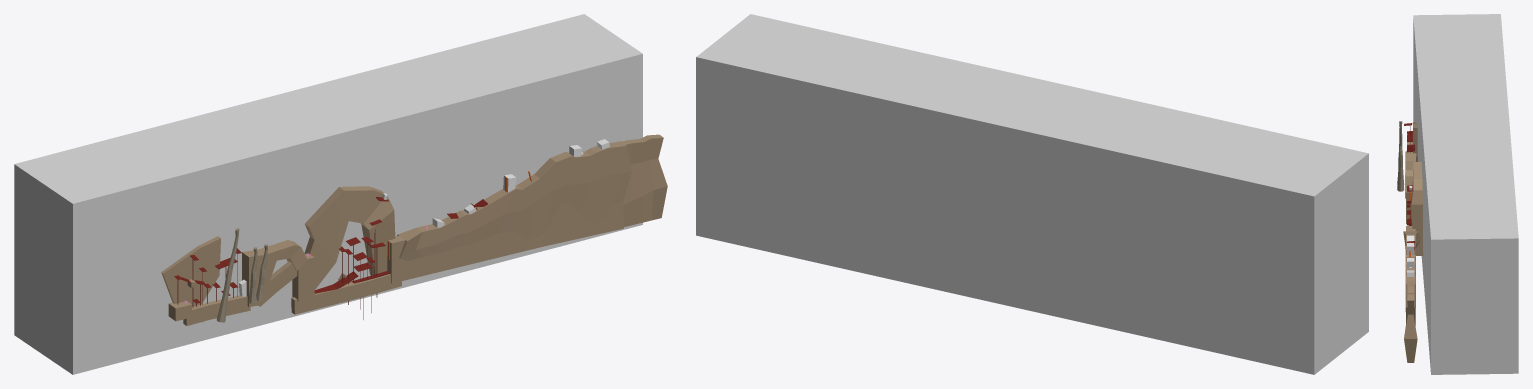
3 views of the same model, side by side, from view 1: azimuth 30°, elevation 25°; view 2: azimuth 150°, elevation 25°; view 3: azimuth 270°, elevation 25° (orthographic). The views are drawn at different scales.
Parts seen in each view (by area): view 1: fog, Cube.099, Cube.093, Cube.112, Cube.074, Cube.059, Cube.080, Cube.060, Cube.078, Cube.086, Cube.077, Cylinder.035; view 2: fog; view 3: fog, Cube.093, Cube.112, Cube.099, Cube.059, Cylinder.033, Cylinder.035, Cube.074.
Part boxes in pixels (box(x1,y1,x2,y2)): fog: box(14, 14, 642, 374); Cube.099: box(397, 141, 631, 279); Cube.093: box(304, 186, 395, 289); Cube.112: box(621, 134, 667, 226); Cube.074: box(161, 236, 220, 306); Cube.059: box(242, 240, 306, 306); Cube.080: box(291, 274, 401, 314); Cube.060: box(183, 295, 250, 325); Cube.078: box(292, 253, 314, 301); Cube.086: box(387, 235, 408, 283); Cube.077: box(258, 261, 297, 306); Cylinder.035: box(217, 228, 239, 322); fog: box(696, 14, 1368, 374); fog: box(1413, 14, 1518, 374); Cube.093: box(1410, 162, 1423, 255); Cube.112: box(1404, 284, 1417, 362); Cube.099: box(1403, 231, 1420, 325); Cube.059: box(1405, 153, 1416, 198); Cylinder.033: box(1397, 150, 1404, 191); Cylinder.035: box(1397, 121, 1404, 184); Cube.074: box(1413, 122, 1417, 161).
Size of the model in its own units: 48340 by 14477 by 10861.
